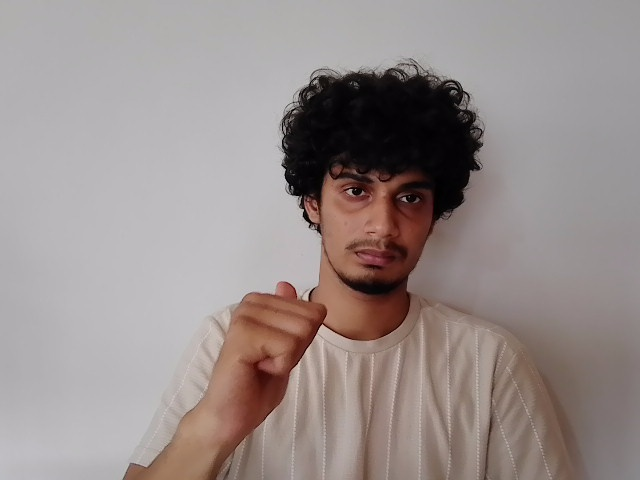how: (212, 280, 330, 421)
